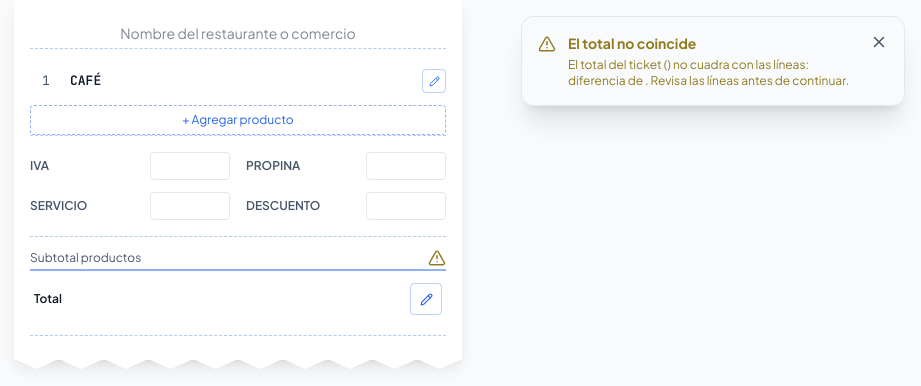
Test: ReceiptEditor › shows a toast when the detected total does not match
Expected: the message shows "no cuadra con las líneas", [568,57,849,88]
Click the button named "cerrar aviso". click: point(879, 42)
box: [866,29,892,55]
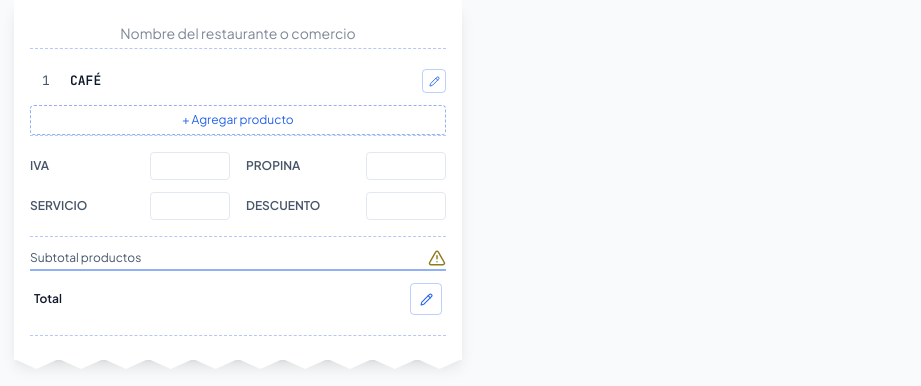
Click the button named "ver aviso de desajuste". click: point(437, 258)
box: [428,249,446,267]
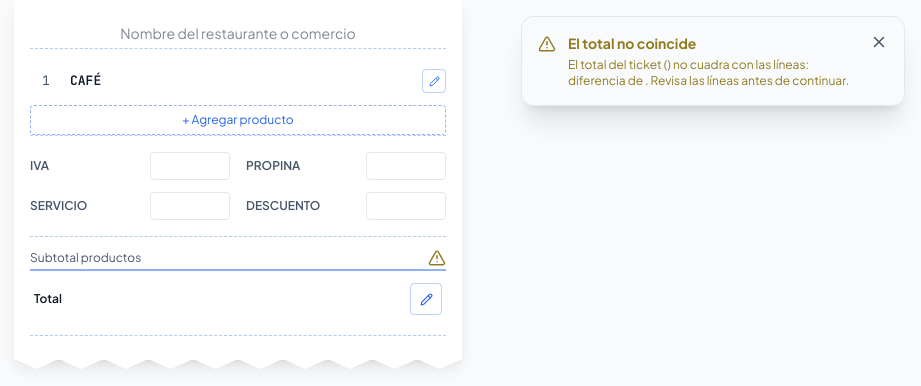
Expected: the message is shown, [521,16,905,106]
